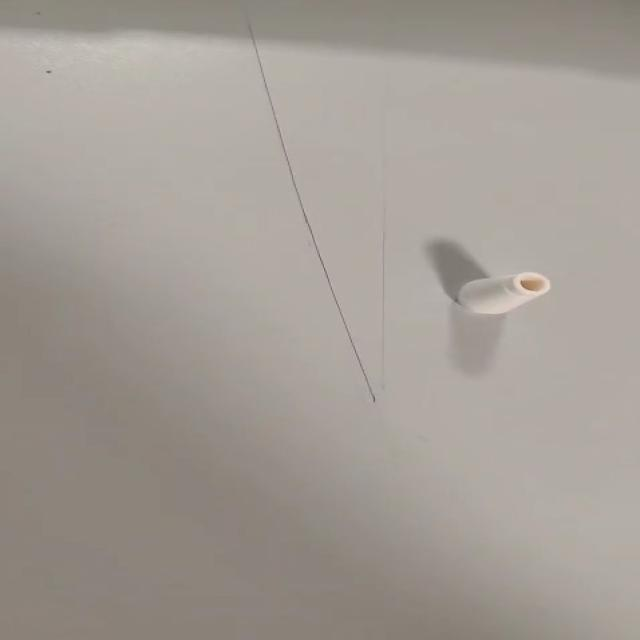Z1x1x1: (460, 272, 552, 318)
